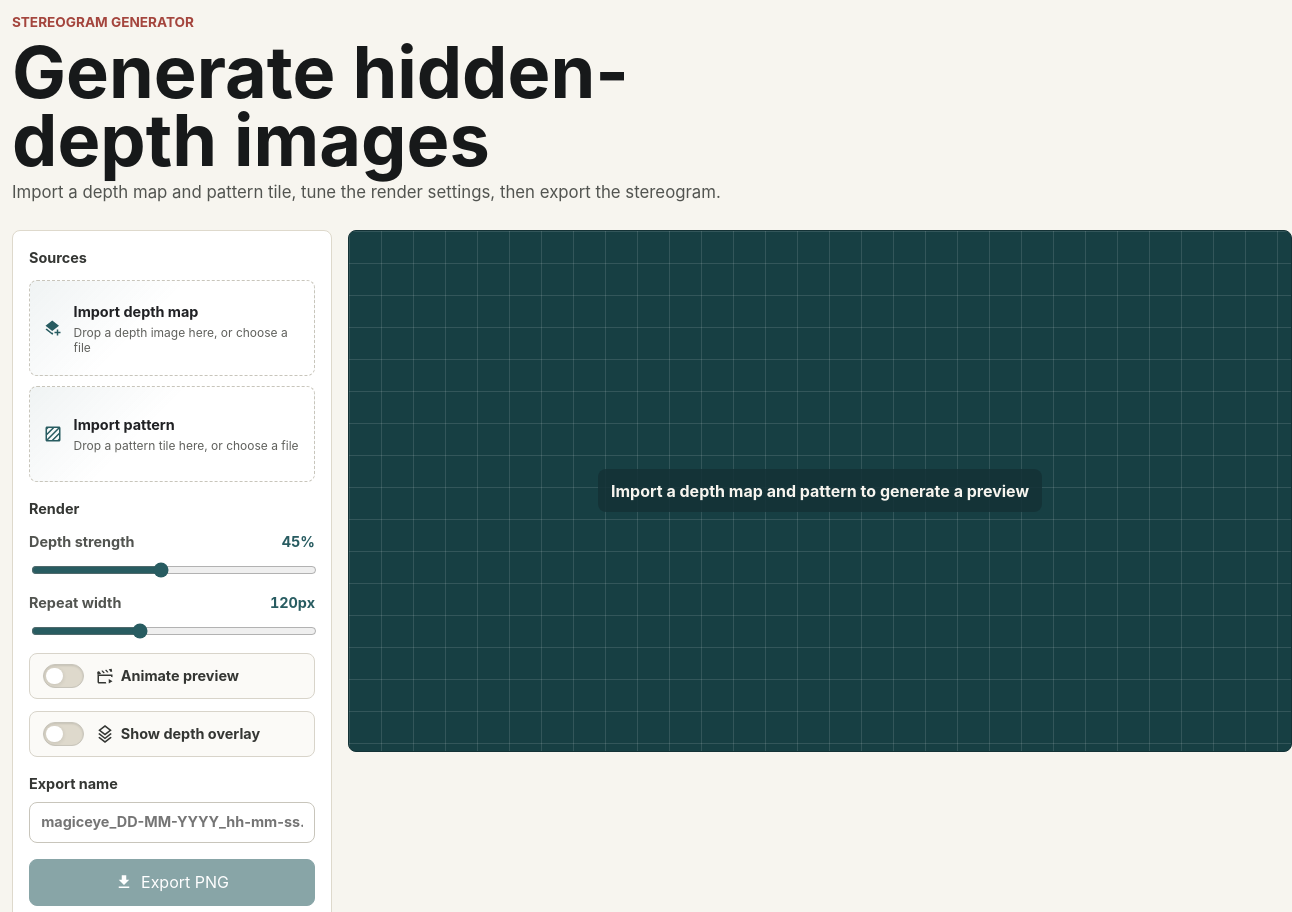
GeneratorPage › shows animation speed controls only when animation is enabled
The width and height of the screenshot is (1292, 912).
Expected: the slider labelled "Animation speed" is not shown
What coordinates should you click on to do the following:
click the checkbox labelled "Animate preview"
I would click on:
 (172, 676)
Its box is top-left (29, 653), bottom-right (315, 699).
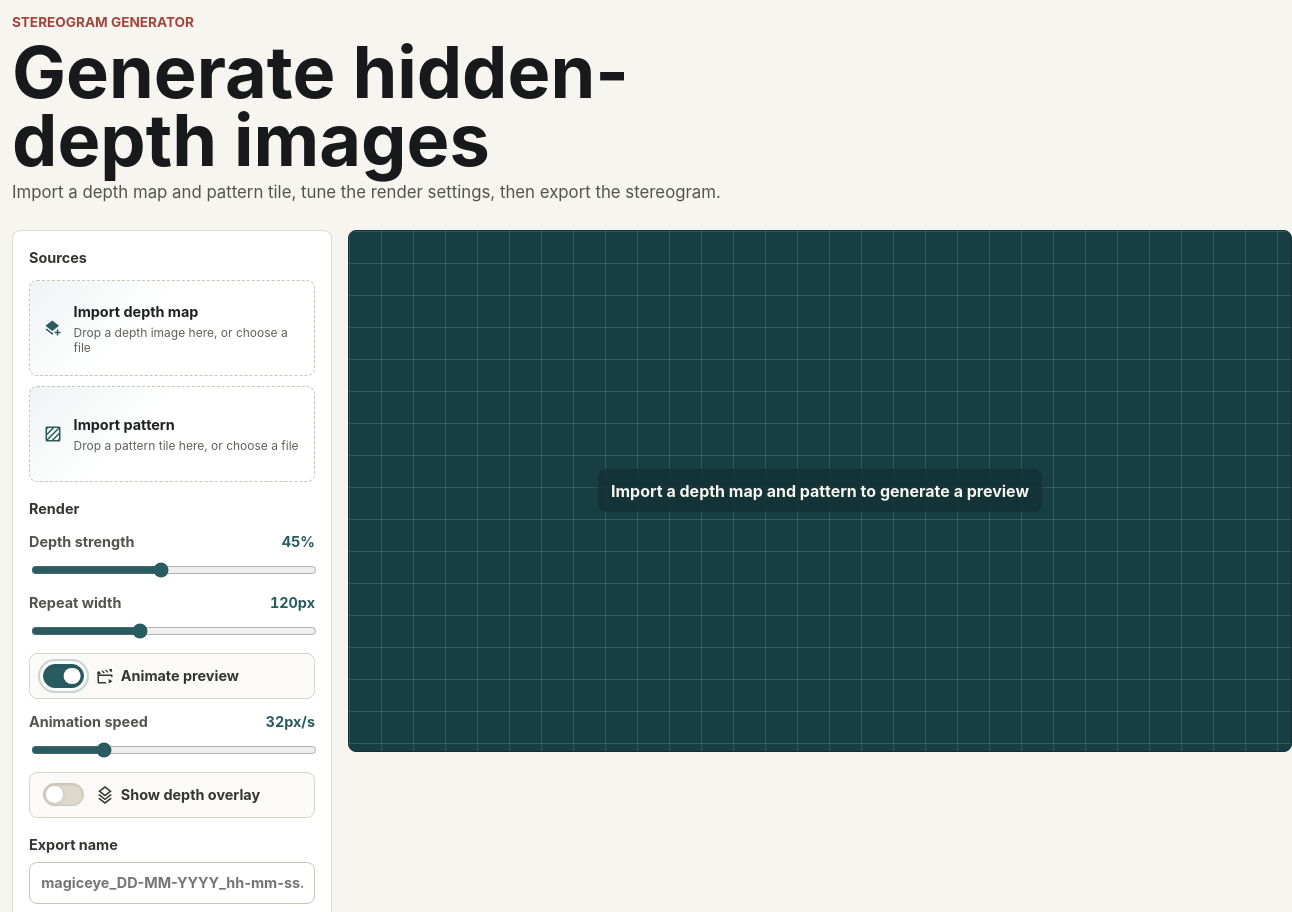
Expected: the slider named "Animation speed" holds "32", top-left (31, 742), bottom-right (317, 758)
